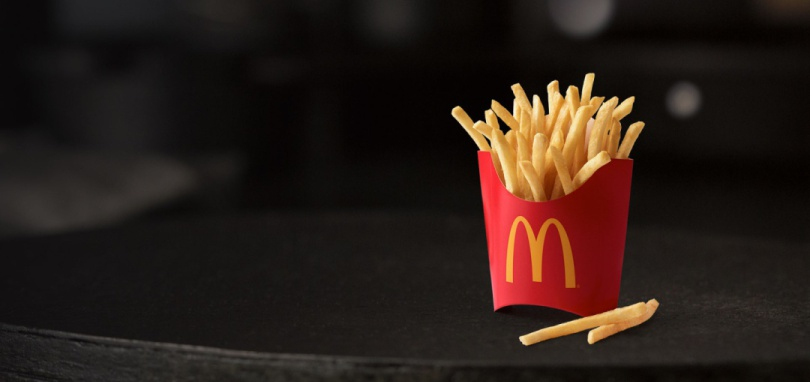mcdonalds: (499, 214, 581, 295)
